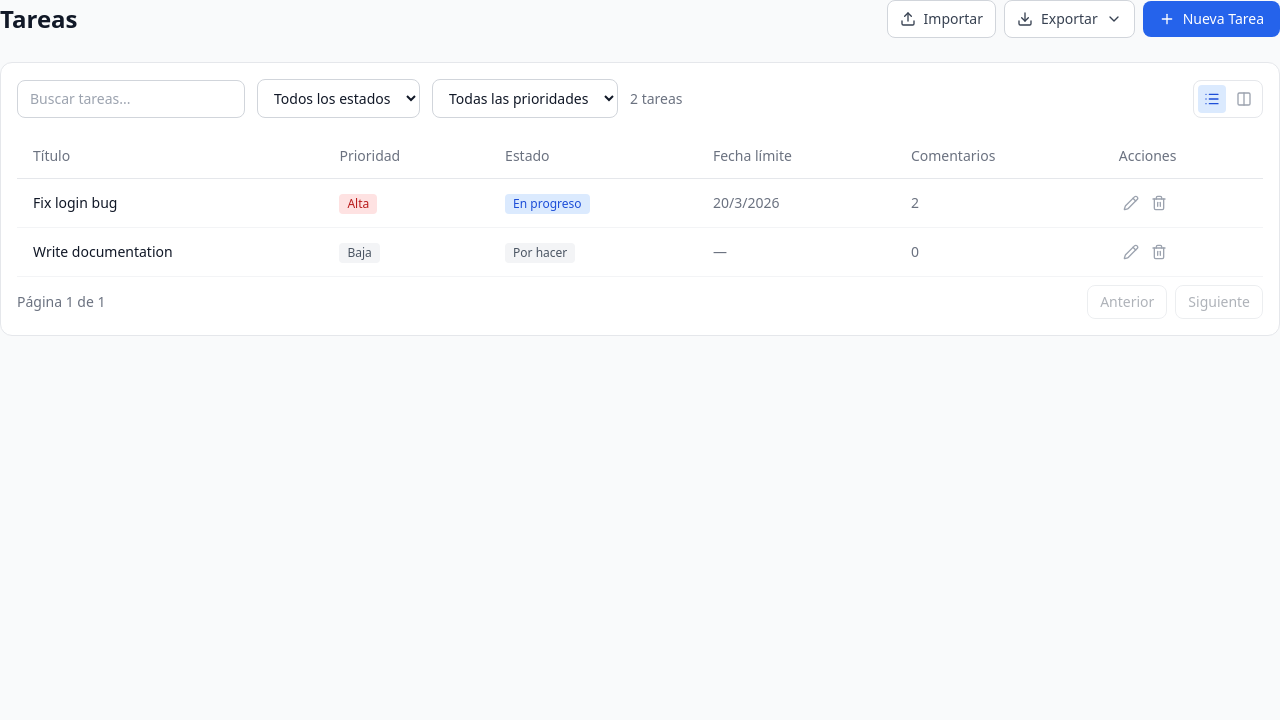
it: TasksPage › abre modal al hacer click en Nueva Tarea
What coordinates should you click on to do the following:
click the button "Nueva Tarea"
I would click on:
 (1211, 19)
Its box is [1143, 1, 1279, 37].
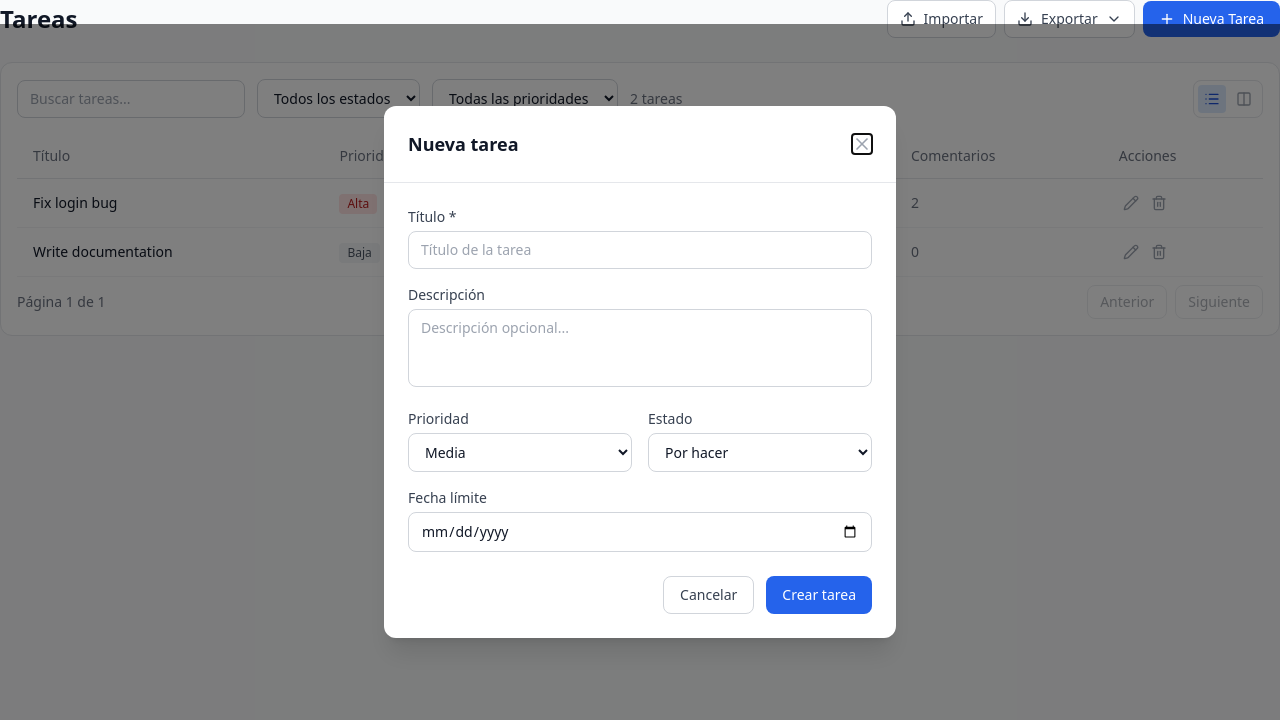
Now the dialog is shown, box [384, 106, 896, 638]
Now the heading "Nueva tarea" is shown, box [408, 130, 518, 158]
